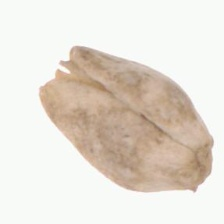L1: (38, 45, 78, 102), (186, 136, 214, 193)
L2: (38, 45, 213, 193)
